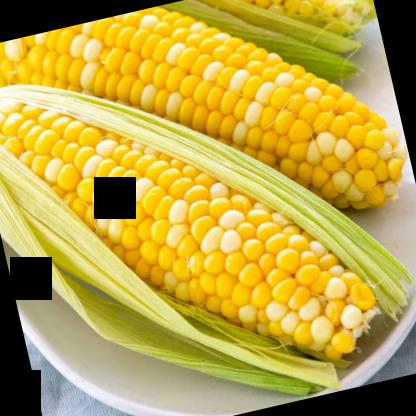corn: (0, 27, 393, 415), (0, 0, 415, 295)
